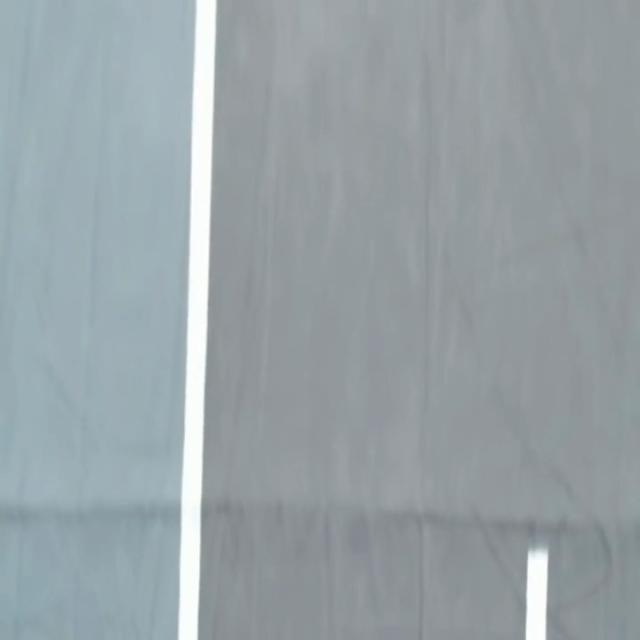center: (525, 547, 547, 639)
left: (179, 0, 216, 639)
